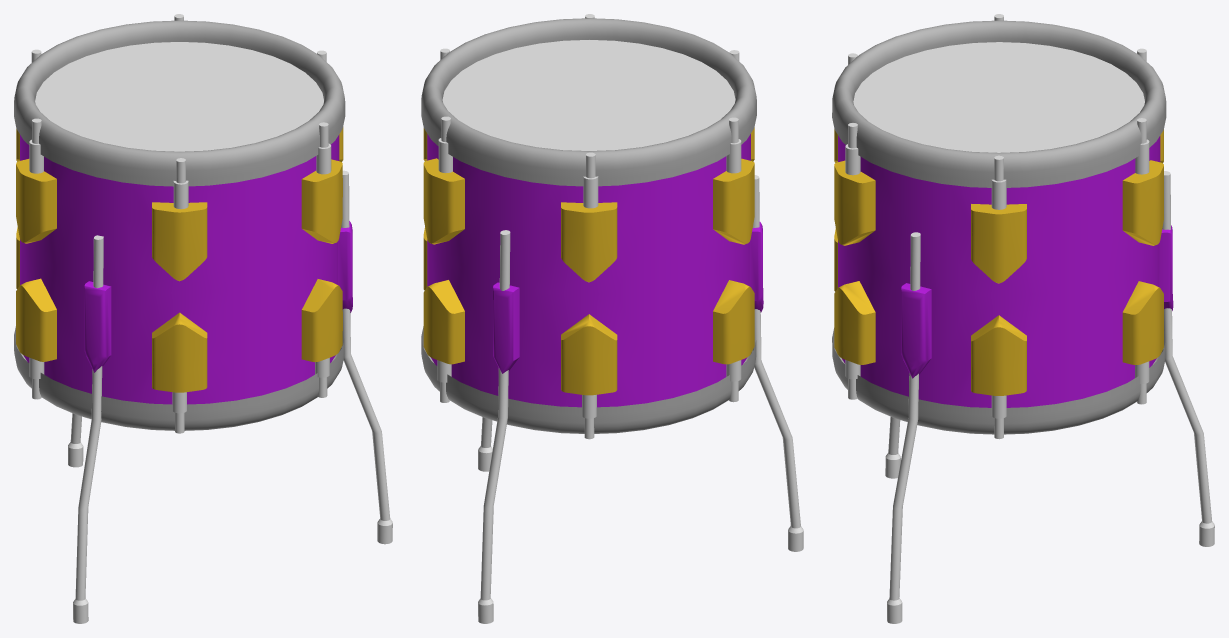
Rendered from goliath.fbx.
3 views of the same model, side by side, from view 1: azimuth 30°, elevation 25°; view 2: azimuth 150°, elevation 25°; view 3: azimuth 270°, elevation 25° (orthographic).
Parts seen in each view (by area): view 1: Cylinder.010; view 2: Cylinder.010; view 3: Cylinder.010.
Part boxes in pixels (box(x1,y1,x2,y2)): Cylinder.010: box(14, 14, 392, 623); Cylinder.010: box(421, 14, 803, 623); Cylinder.010: box(832, 14, 1214, 623).
Size of the model in its own units: 49.01 by 67.74 by 50.56.
